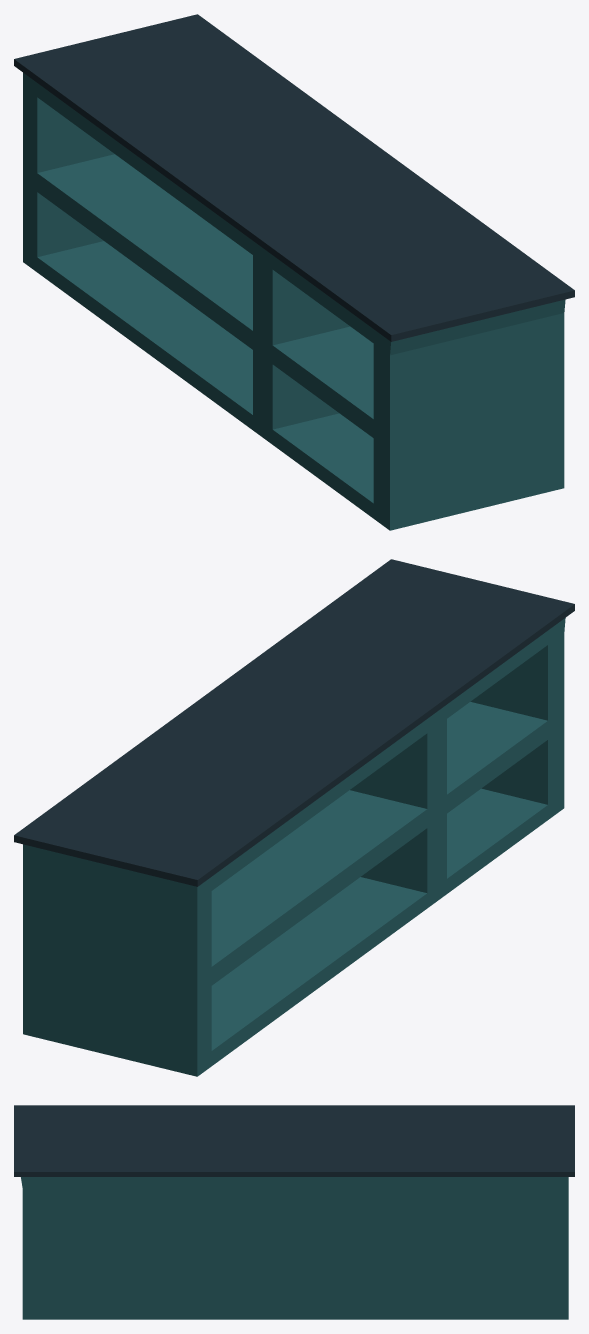
Rendered from Interior_Shelf_Entertainment_Bluelong.fbx.
3 renders of one model, top to bottom at view 1: azimuth 30°, elevation 25°; view 2: azimuth 150°, elevation 25°; view 3: azimuth 270°, elevation 25°, orthographic. The views are drawn at different scales.
Parts seen in each view (by area): view 1: Cube.245; view 2: Cube.245; view 3: Cube.245.
Part boxes in pixels (x1,y1,x2,y2): Cube.245: (14,14,574,530); Cube.245: (14,559,574,1076); Cube.245: (14,1105,574,1319).
Size of the model in its own units: 52.6 by 55 by 187.
